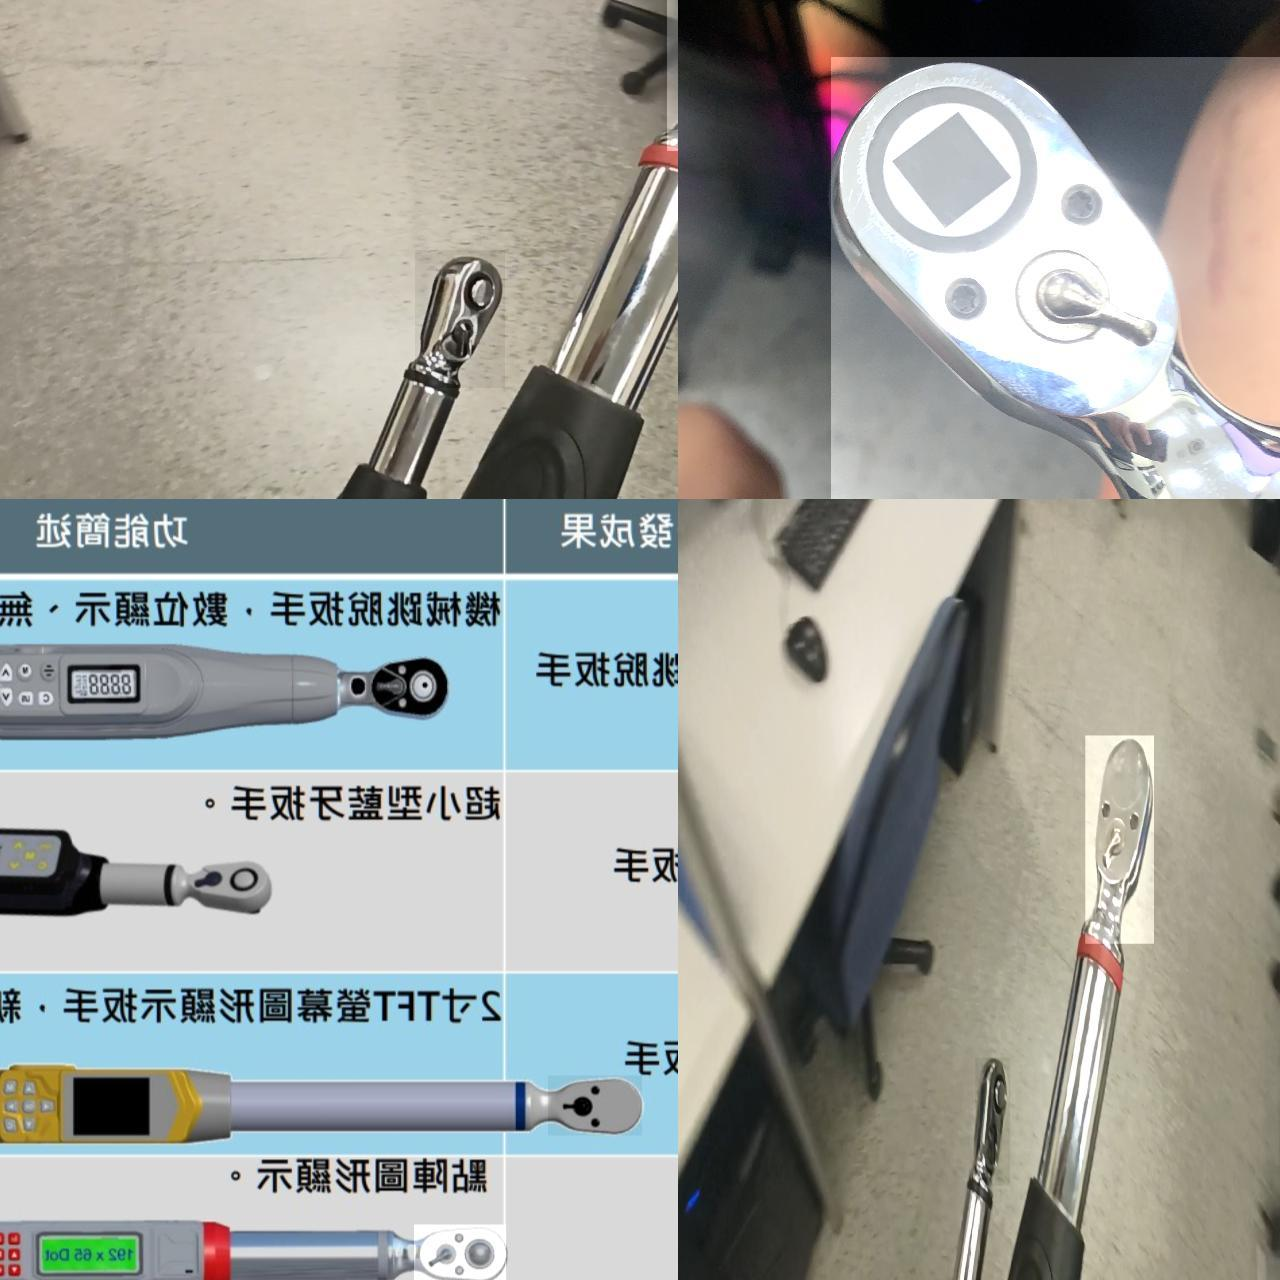Tool: (831, 57, 1280, 499), (1085, 735, 1154, 944), (415, 250, 505, 388), (548, 1075, 642, 1135), (414, 1224, 506, 1280), (184, 857, 274, 913), (975, 1058, 1010, 1186)
